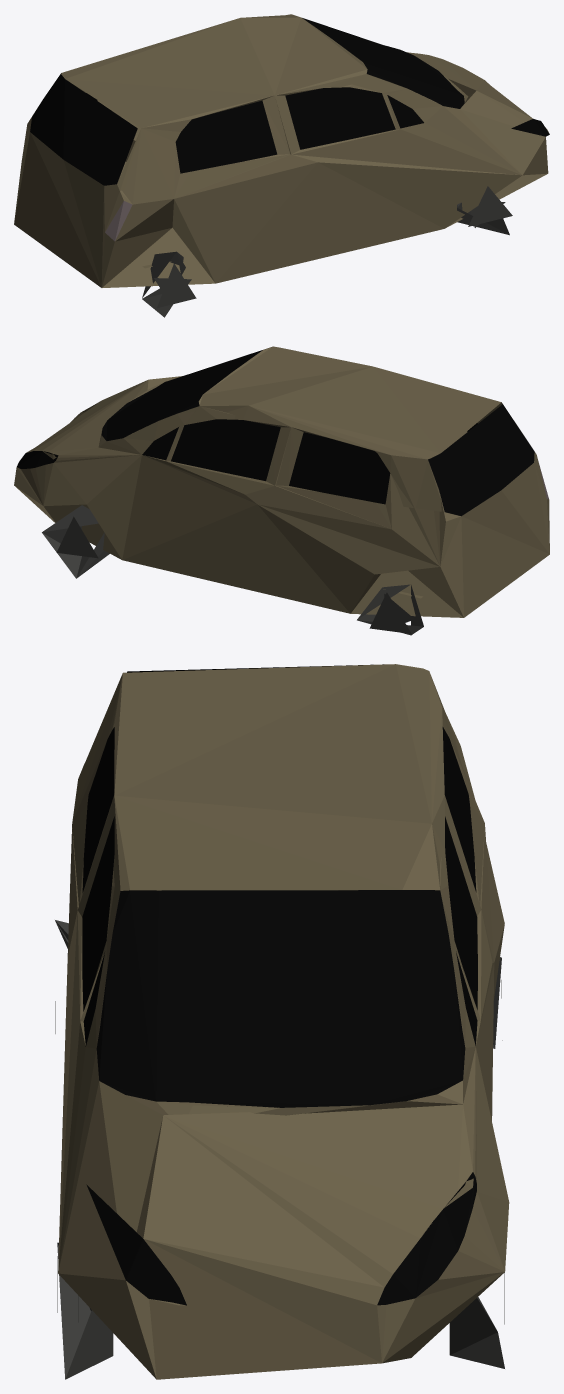
File: pc-compact-beige.lod2.glb
3 renders of one model, top to bottom at view 1: azimuth 30°, elevation 25°; view 2: azimuth 150°, elevation 25°; view 3: azimuth 270°, elevation 25°, orthographic. The views are drawn at different scales.
Visible parts, largest first — view 1: Wheel_C_Wheel_0; view 2: Wheel_C_Wheel_0; view 3: Wheel_C_Wheel_0.
Boxes of the visible parts, box(x1,y1,x2,y2) form: Wheel_C_Wheel_0: box(14, 14, 549, 317); Wheel_C_Wheel_0: box(14, 346, 549, 635); Wheel_C_Wheel_0: box(55, 664, 509, 1379).
Size of the model in its own units: 3.12 by 1.27 by 1.31.
